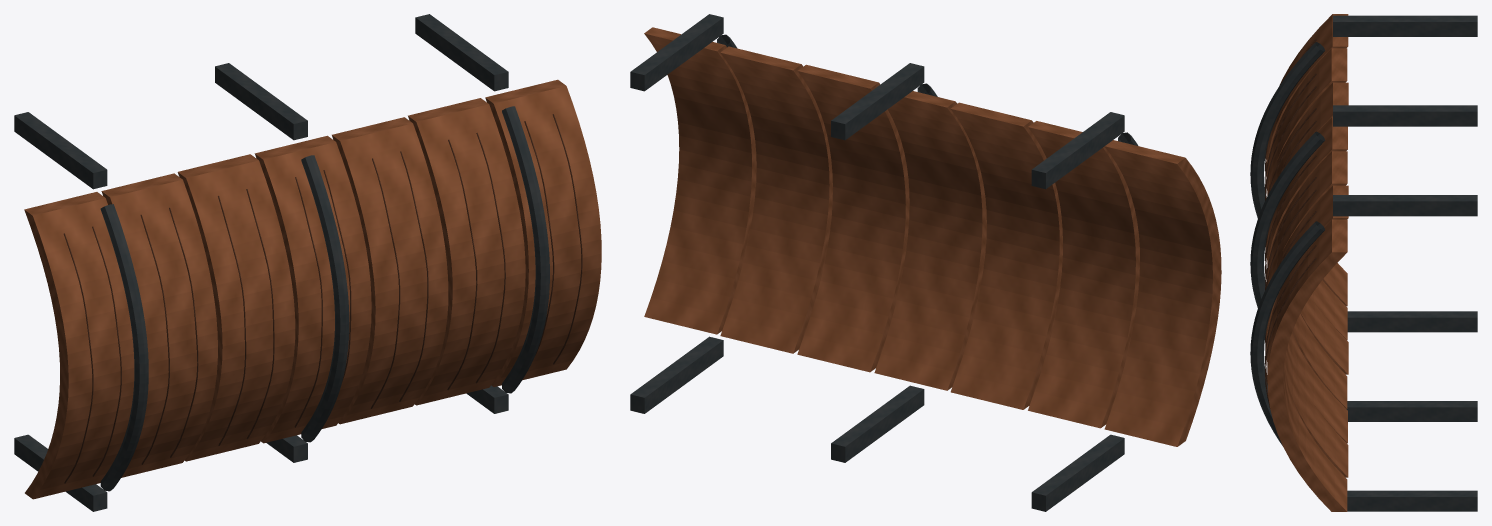
The model's file is SM_GateWardenChest_Lid_1348_v1_UVdraft.obj.
3 renders of one model, left to right at view 1: azimuth 30°, elevation 25°; view 2: azimuth 150°, elevation 25°; view 3: azimuth 270°, elevation 25°, orthographic. The views are drawn at different scales.
Visible parts, largest first — view 1: Carved_Arched_Oak_Lid_4, Carved_Arched_Oak_Lid_5, Carved_Arched_Oak_Lid_2, Carved_Arched_Oak_Lid_0, Carved_Arched_Oak_Lid_1, Carved_Arched_Oak_Lid_6, Carved_Arched_Oak_Lid_3, Iron_Arch_Reinforcement_-0.311, Iron_Arch_Reinforcement_0.311, Iron_Arch_Reinforcement_0; view 2: Carved_Arched_Oak_Lid_0, Carved_Arched_Oak_Lid_5, Carved_Arched_Oak_Lid_2, Carved_Arched_Oak_Lid_3, Carved_Arched_Oak_Lid_6, Carved_Arched_Oak_Lid_4, Carved_Arched_Oak_Lid_1, Iron_Arch_Reinforcement_-0.311, Iron_Arch_Reinforcement_0.311, Iron_Arch_Reinforcement_0; view 3: Iron_Arch_Reinforcement_0.311, Carved_Arched_Oak_Lid_6, Iron_Arch_Reinforcement_-0.311, Iron_Arch_Reinforcement_0, Carved_Arched_Oak_Lid_4, Carved_Arched_Oak_Lid_3, Carved_Arched_Oak_Lid_1, Carved_Arched_Oak_Lid_5, Carved_Arched_Oak_Lid_2, Carved_Arched_Oak_Lid_0, Raised_Growth_Ring_Grain_6_1.
Part boxes in pixels (left/top/right/bottom): Carved_Arched_Oak_Lid_4: left=332, top=117, right=448, bottom=424; Carved_Arched_Oak_Lid_5: left=408, top=98, right=525, bottom=405; Carved_Arched_Oak_Lid_2: left=177, top=154, right=295, bottom=461; Carved_Arched_Oak_Lid_0: left=24, top=192, right=134, bottom=499; Carved_Arched_Oak_Lid_1: left=101, top=173, right=217, bottom=477; Carved_Arched_Oak_Lid_6: left=485, top=79, right=601, bottom=386; Carved_Arched_Oak_Lid_3: left=254, top=135, right=371, bottom=443; Iron_Arch_Reinforcement_-0.311: left=14, top=112, right=148, bottom=511; Iron_Arch_Reinforcement_0.311: left=415, top=14, right=549, bottom=413; Iron_Arch_Reinforcement_0: left=215, top=63, right=349, bottom=462; Carved_Arched_Oak_Lid_0: left=1104, top=140, right=1221, bottom=446; Carved_Arched_Oak_Lid_5: left=720, top=46, right=832, bottom=353; Carved_Arched_Oak_Lid_2: left=950, top=102, right=1062, bottom=409; Carved_Arched_Oak_Lid_3: left=874, top=91, right=986, bottom=390; Carved_Arched_Oak_Lid_6: left=644, top=27, right=756, bottom=334; Carved_Arched_Oak_Lid_4: left=797, top=64, right=909, bottom=372; Carved_Arched_Oak_Lid_1: left=1028, top=121, right=1139, bottom=428; Iron_Arch_Reinforcement_-0.311: left=1031, top=112, right=1138, bottom=511; Iron_Arch_Reinforcement_0.311: left=630, top=14, right=737, bottom=413; Iron_Arch_Reinforcement_0: left=831, top=63, right=937, bottom=462; Iron_Arch_Reinforcement_0.311: left=1250, top=195, right=1477, bottom=511; Carved_Arched_Oak_Lid_6: left=1267, top=219, right=1347, bottom=511; Iron_Arch_Reinforcement_-0.311: left=1250, top=15, right=1477, bottom=332; Iron_Arch_Reinforcement_0: left=1250, top=105, right=1477, bottom=421; Carved_Arched_Oak_Lid_4: left=1267, top=151, right=1347, bottom=443; Carved_Arched_Oak_Lid_3: left=1267, top=117, right=1347, bottom=408; Carved_Arched_Oak_Lid_1: left=1267, top=48, right=1347, bottom=340; Carved_Arched_Oak_Lid_5: left=1266, top=185, right=1348, bottom=477; Carved_Arched_Oak_Lid_2: left=1266, top=82, right=1348, bottom=374; Carved_Arched_Oak_Lid_0: left=1266, top=14, right=1348, bottom=306; Raised_Growth_Ring_Grain_6_1: left=1265, top=258, right=1316, bottom=408.
Bounding box in the file's own units: 0.827 × 0.502 × 0.333.
3 materials, 3 textured.
